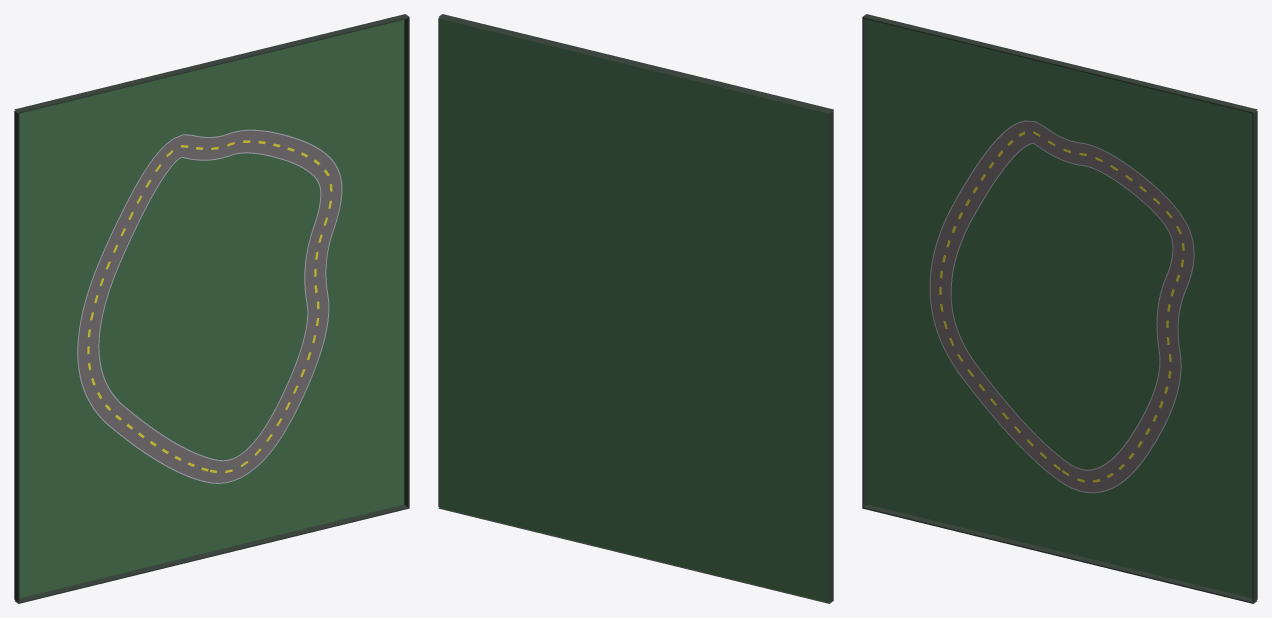
Rendered from track.obj.
3 renders of one model, left to right at view 1: azimuth 30°, elevation 25°; view 2: azimuth 150°, elevation 25°; view 3: azimuth 330°, elevation 25°, orthographic.
Bounding box in the file's own units: 15.96 × 19.16 × 0.3.
